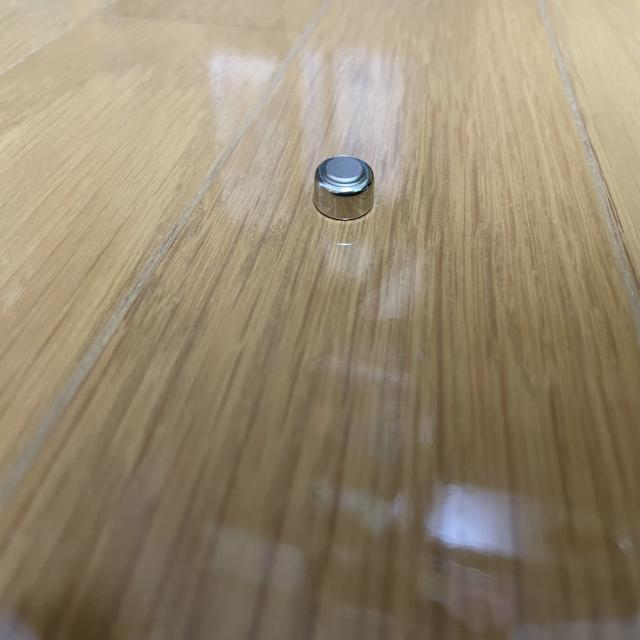COIN: (313, 152, 375, 222)
